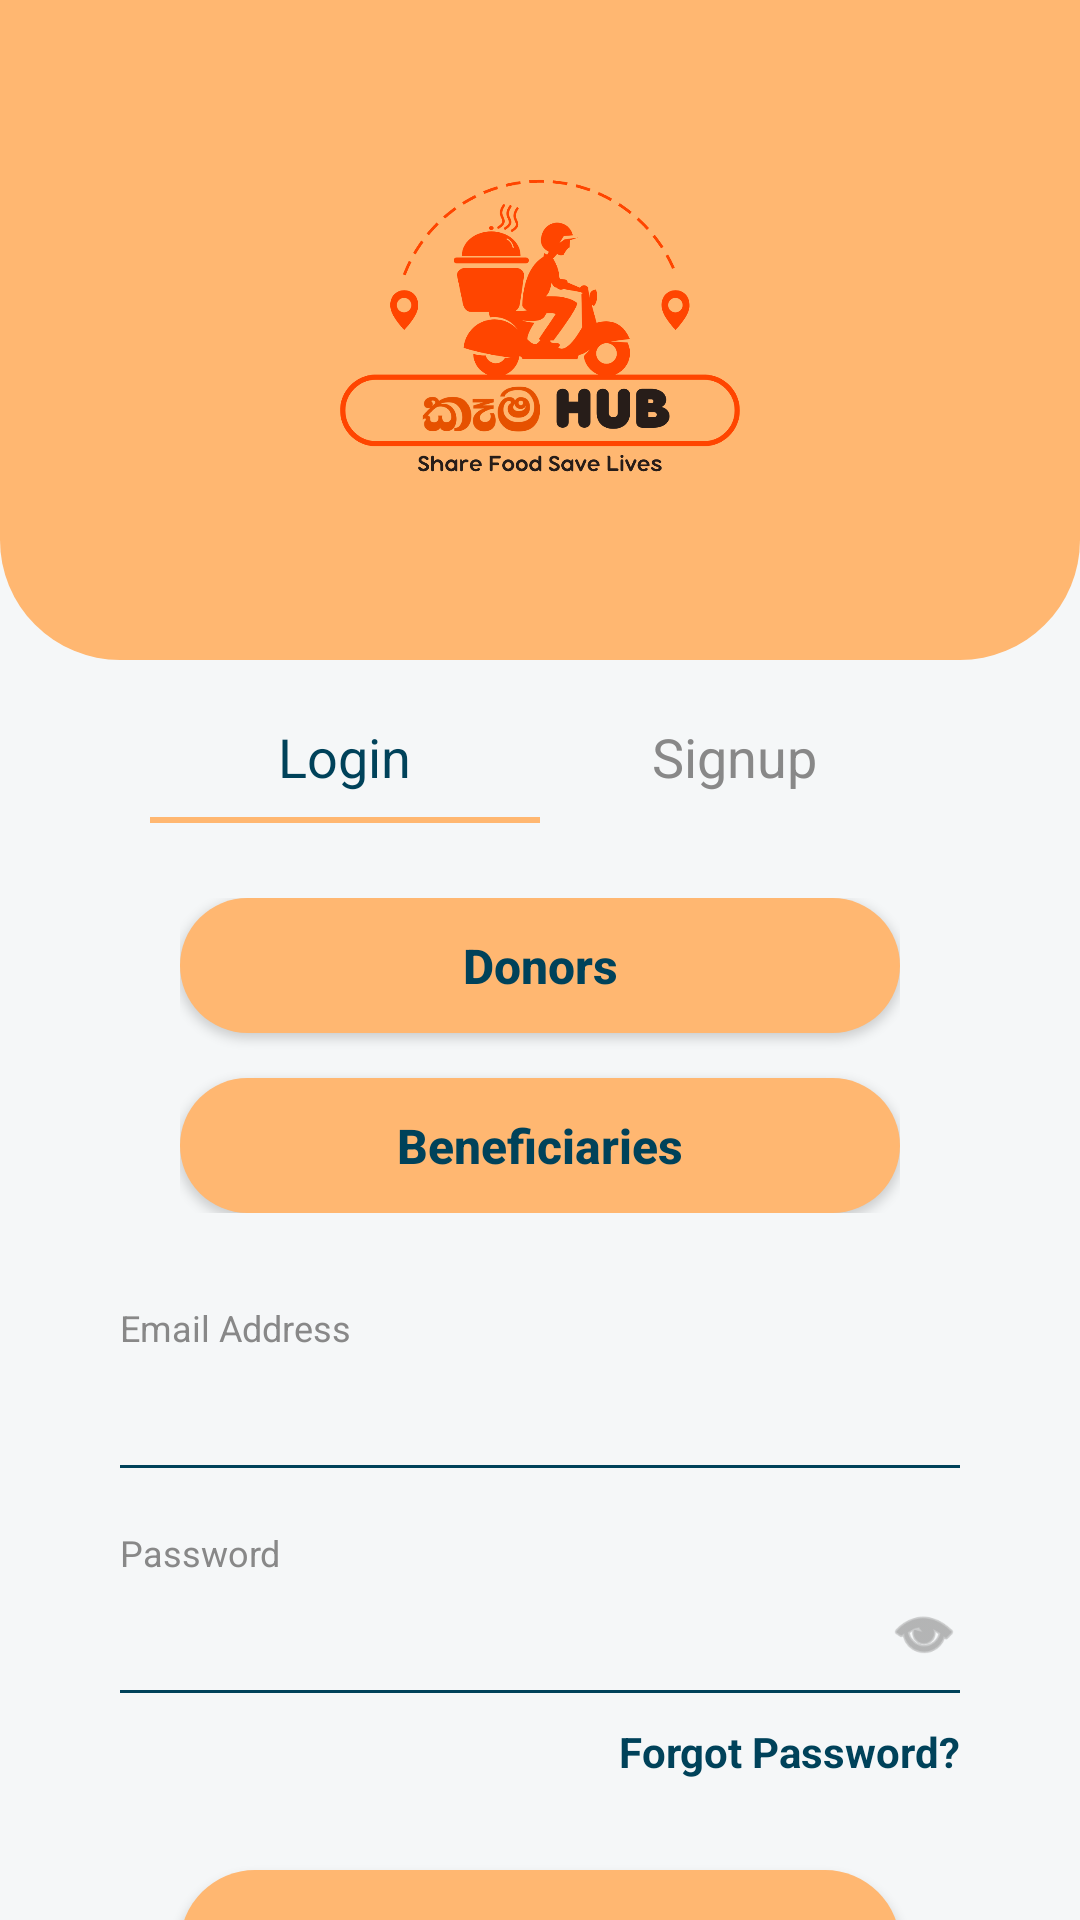

Icon bounding boxes for this 1080*1920 phone screenshot, format (x1, y1, x2, y2):
view: (895, 1617, 953, 1653)
